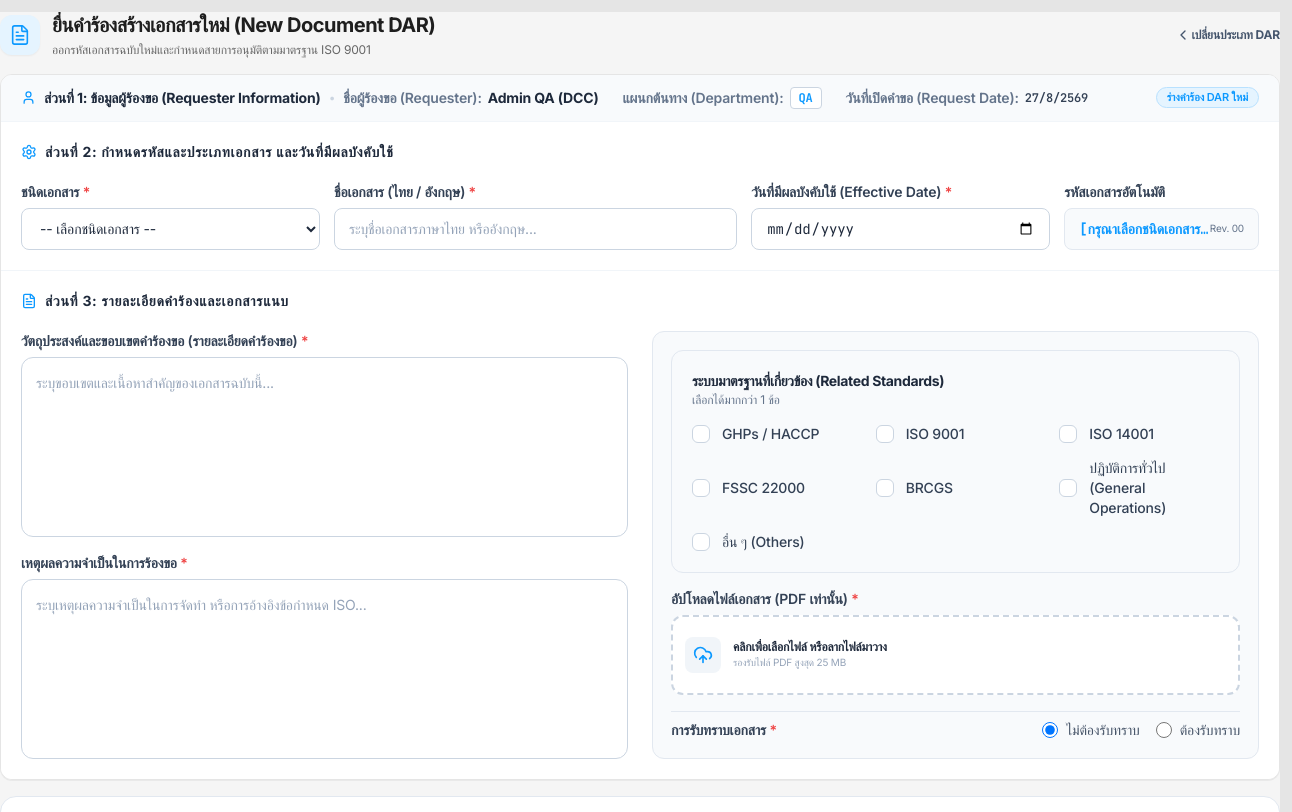
Scenario: 2-Digit Base Document Running Number Standard (01-99 ➔ 100+) Tests › 2. Internal DAR Document Code Auto-Generation (DarNewForm & useStore) › renders 2-digit preview in DarNewForm UI (e.g. FM-QA-01)
The width and height of the screenshot is (1292, 812).
Note: Select FM
Select "แบบฟอร์มบันทึกข้อมูล (FM)" in the dropdown at [170, 228], box 21,208 -> 320,250
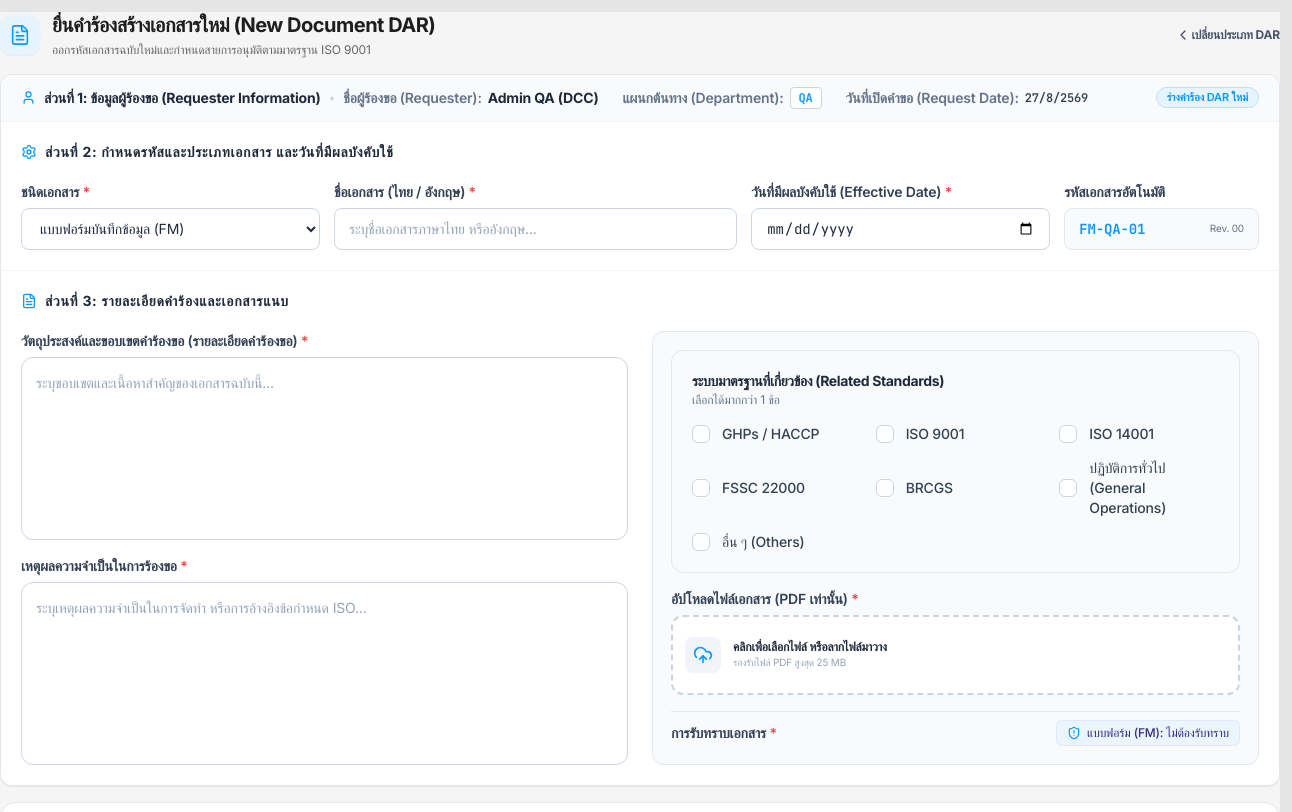
Expected: the text "FM-QA-01" is shown, 1079,218 -> 1145,238
